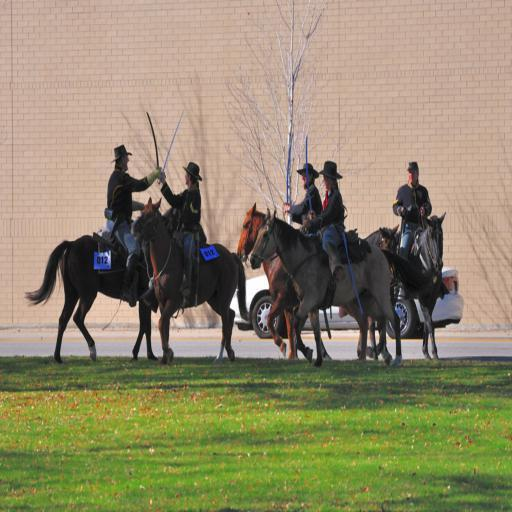horse: (23, 202, 208, 364), (250, 202, 400, 366), (130, 202, 256, 360), (233, 202, 345, 356), (362, 207, 446, 367)
